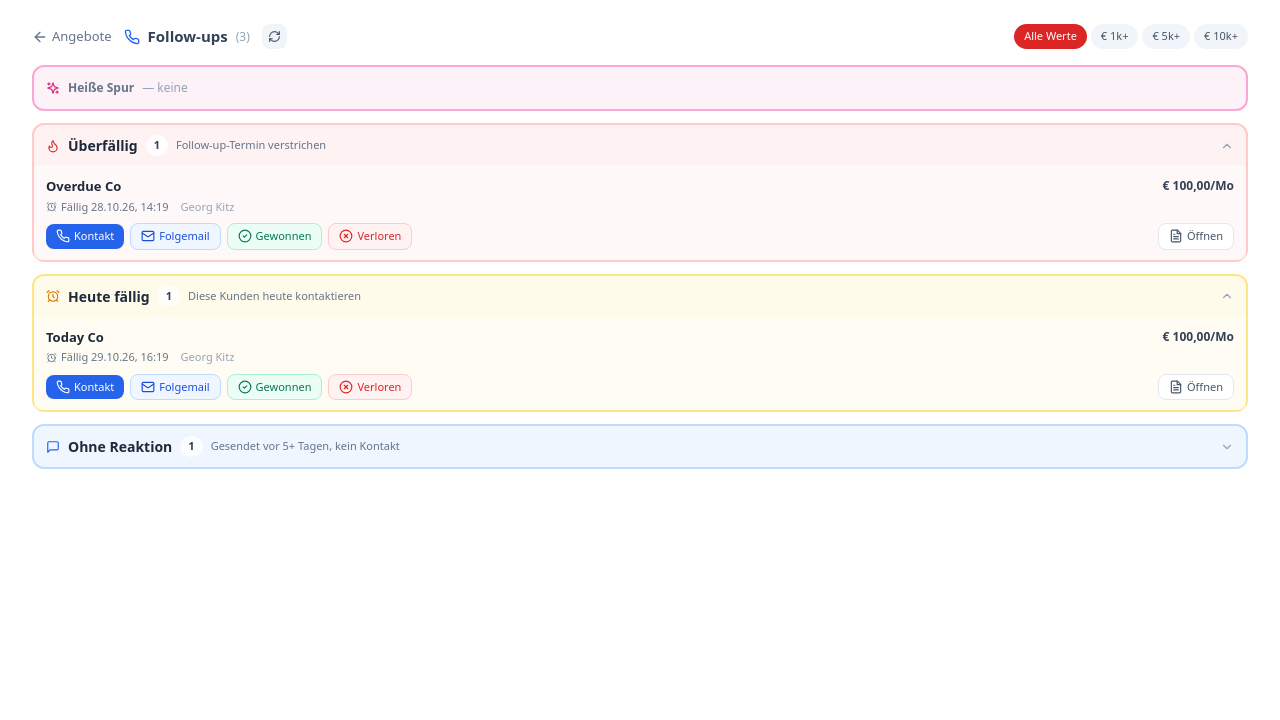
FollowUpsPage › renders one row per offer in the matching bucket
Expected: the text "Overdue Co" is shown, [46,177,121,196]
Expected: the text "Today Co" is shown, [46,328,104,347]
Click the button "Ohne Reaktion 1 Gesendet vor 5+ Tagen, kein Kontakt": coordinates (120, 446) [34,426,1246,467]
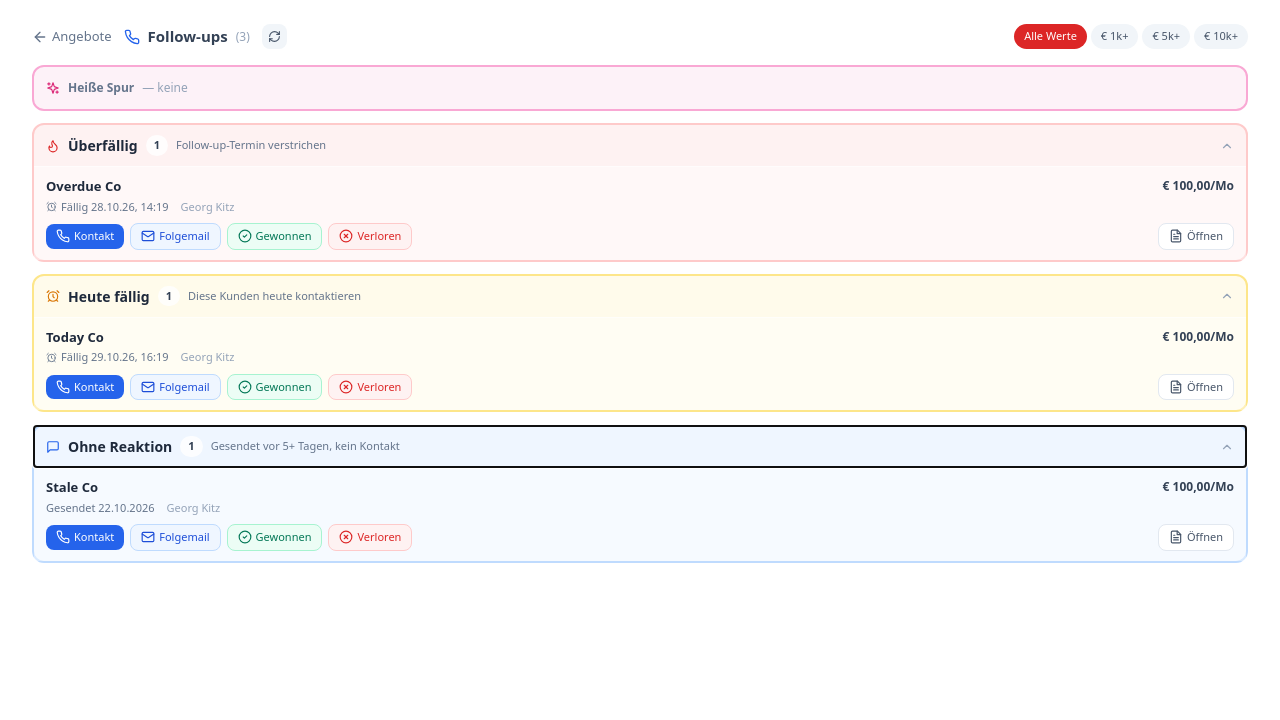
Expected: the text "Stale Co" is shown, [46,478,98,498]
